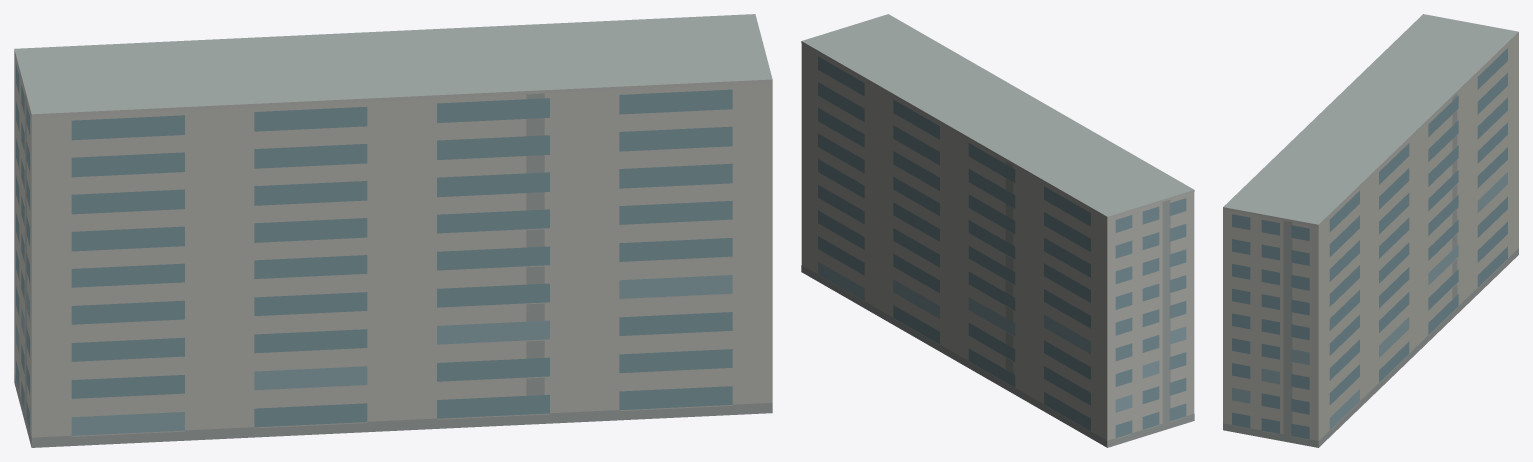
The model's file is residential-13566f40-8b11-4852-9638-2ae74c2ee0fb.glb.
3 views of the same model, side by side, from view 1: azimuth 30°, elevation 25°; view 2: azimuth 150°, elevation 25°; view 3: azimuth 270°, elevation 25° (orthographic). The views are drawn at different scales.
Parts seen in each view (by area): view 1: residential-13566f40-8b11-4852-9638-2ae74c2ee0fb.tmp; view 2: residential-13566f40-8b11-4852-9638-2ae74c2ee0fb.tmp; view 3: residential-13566f40-8b11-4852-9638-2ae74c2ee0fb.tmp.
Boxes of the visible parts, x1,y1,x2,y2 form: residential-13566f40-8b11-4852-9638-2ae74c2ee0fb.tmp: (14,14,772,447); residential-13566f40-8b11-4852-9638-2ae74c2ee0fb.tmp: (801,14,1194,447); residential-13566f40-8b11-4852-9638-2ae74c2ee0fb.tmp: (1223,14,1518,447).
Bounding box in the file's own units: 48.61 × 24 × 28.83.
